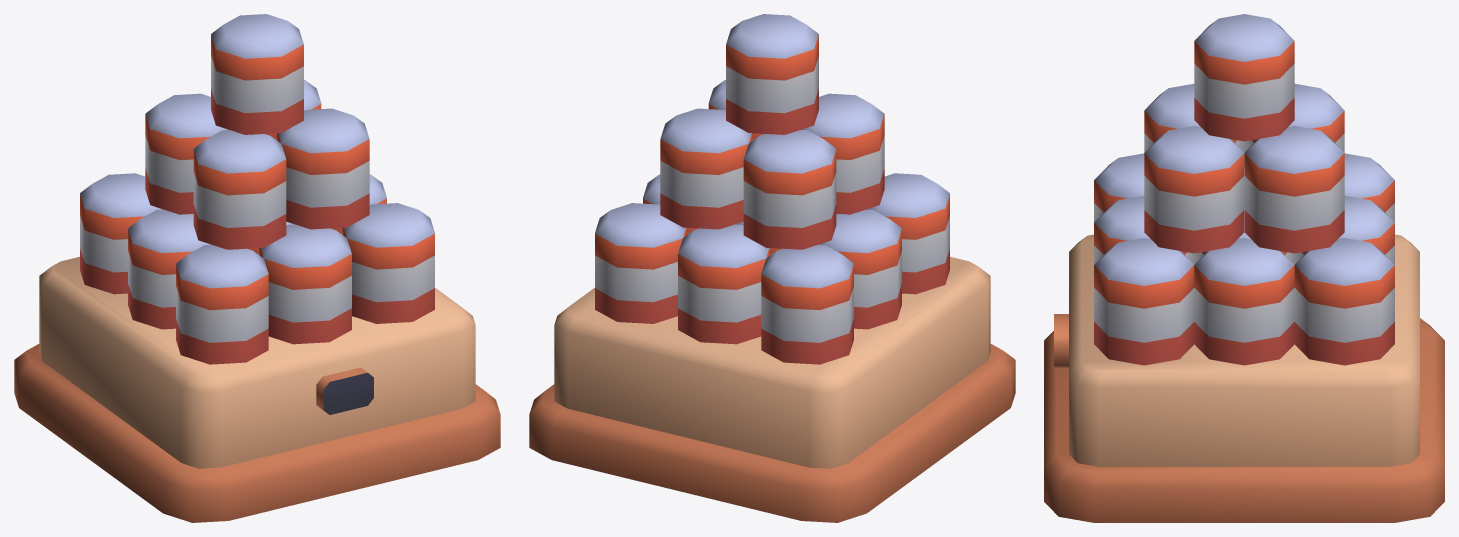
The model's file is display-cans.fbx.
The picture shows the model from 3 angles, left to right: view 1: azimuth 30°, elevation 25°; view 2: azimuth 150°, elevation 25°; view 3: azimuth 270°, elevation 25°; orthographic projection. The views are drawn at different scales.
Parts seen in each view (by area): view 1: display-cans, can, can_4, can_11, can_2, can_12, can_13, can_1, can_7, can_10; view 2: display-cans, can, can_1, can_7, can_3, can_6, can_5, can_4, can_11, can_10; view 3: display-cans, can, can_2, can_3, can_6, can_12, can_9, can_4, can_5, can_13, can_1, can_7 (+1 smaller).
Part boxes in pixels (x1,y1,x2,y2): display-cans: (14,256,500,522); can: (211,14,303,134); can_4: (193,130,286,249); can_11: (176,244,268,364); can_2: (276,108,369,229); can_12: (342,203,434,323); can_13: (259,224,351,344); can_1: (145,93,228,214); can_7: (80,173,163,294); can_10: (128,209,210,329); display-cans: (529,256,1015,522); can: (726,14,818,134); can_1: (743,130,836,249); can_7: (761,244,853,364); can_3: (660,108,753,229); can_6: (595,203,687,323); can_5: (678,224,770,344); can_4: (801,93,884,214); can_11: (866,173,949,294); can_10: (819,209,901,329); display-cans: (1044,234,1444,522); can: (1194,14,1294,141); can_2: (1144,126,1244,253); can_3: (1244,126,1344,253); can_6: (1294,238,1394,365); can_12: (1094,238,1194,365); can_9: (1194,238,1294,365); can_4: (1144,83,1244,166); can_5: (1294,195,1394,264); can_13: (1094,195,1194,264); can_1: (1244,83,1344,152); can_7: (1344,153,1394,221).
Bounding box in the file's own units: 80 × 90 × 80.
1 material, 1 textured.
